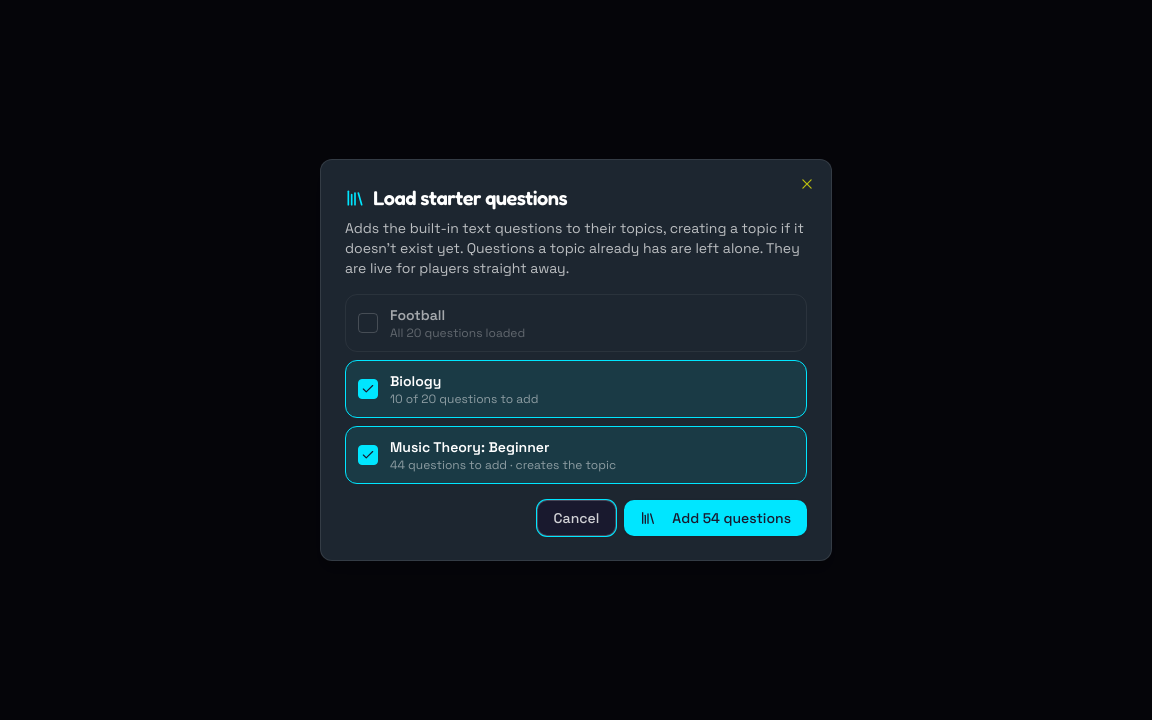
Scenario: LoadStarterDialog › loads only the topics left ticked
Click the checkbox labelled "Biology": click(416, 381) [345, 360, 807, 418]
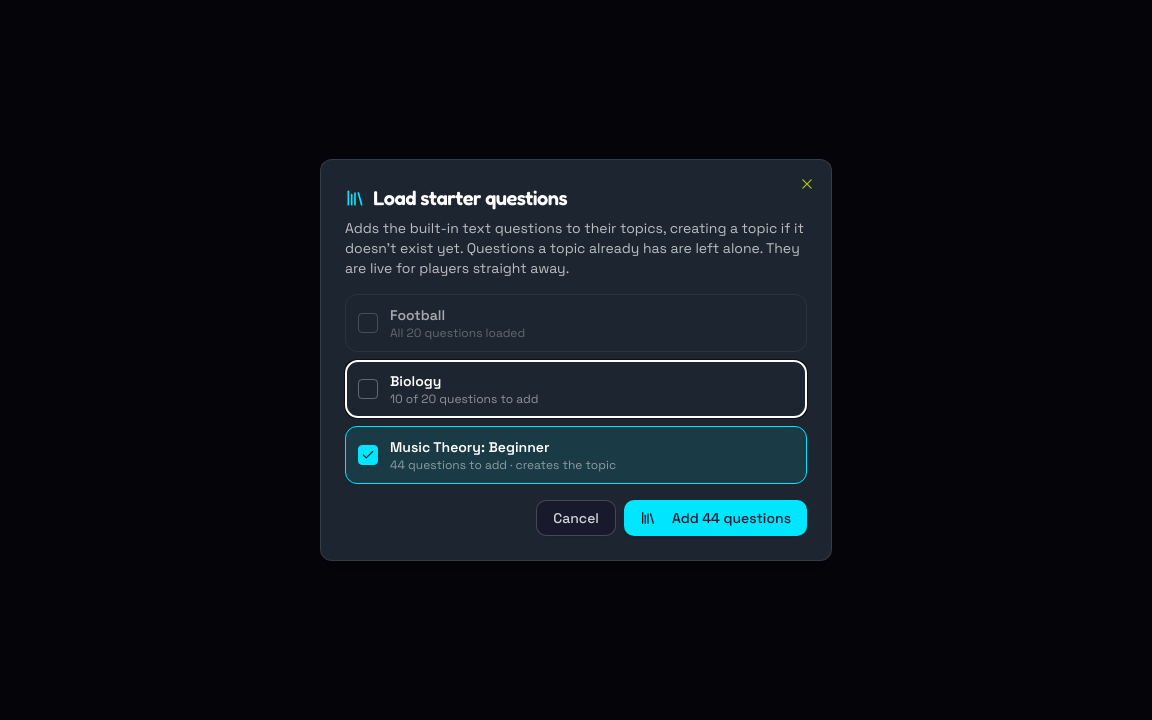
Click the button "Add 44 questions": click(715, 518) [624, 500, 807, 536]
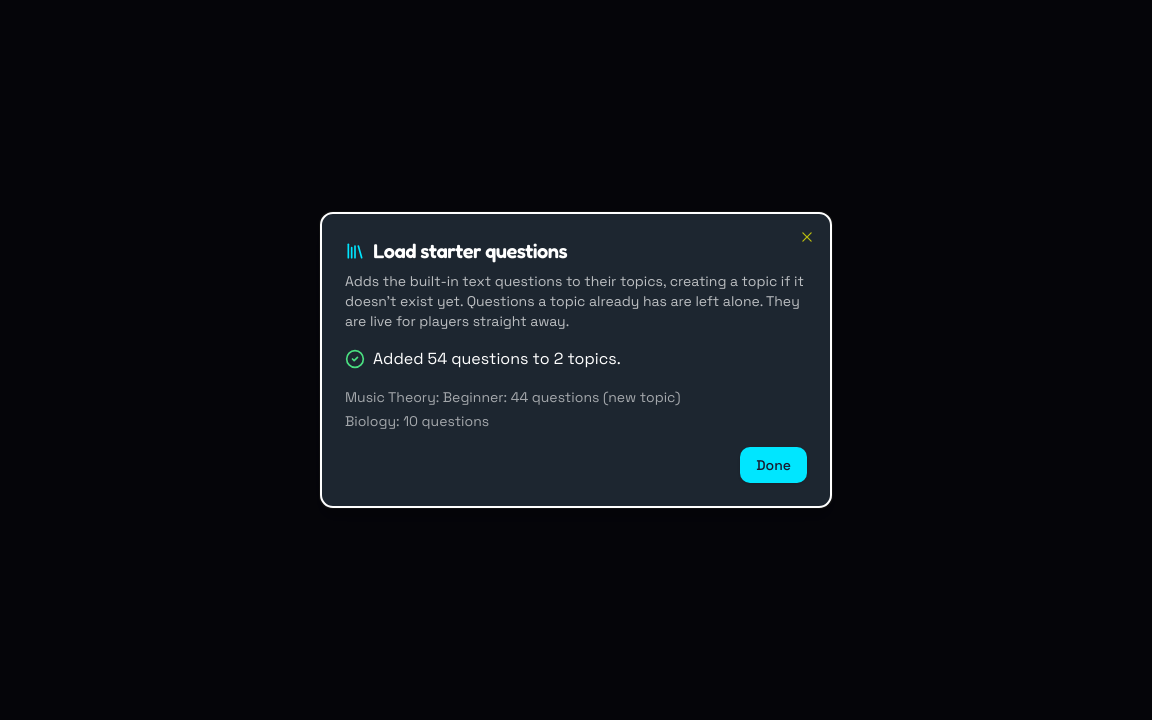
Result: the text "Added 54 questions to 2 topics." is shown at [373, 347, 621, 371]
